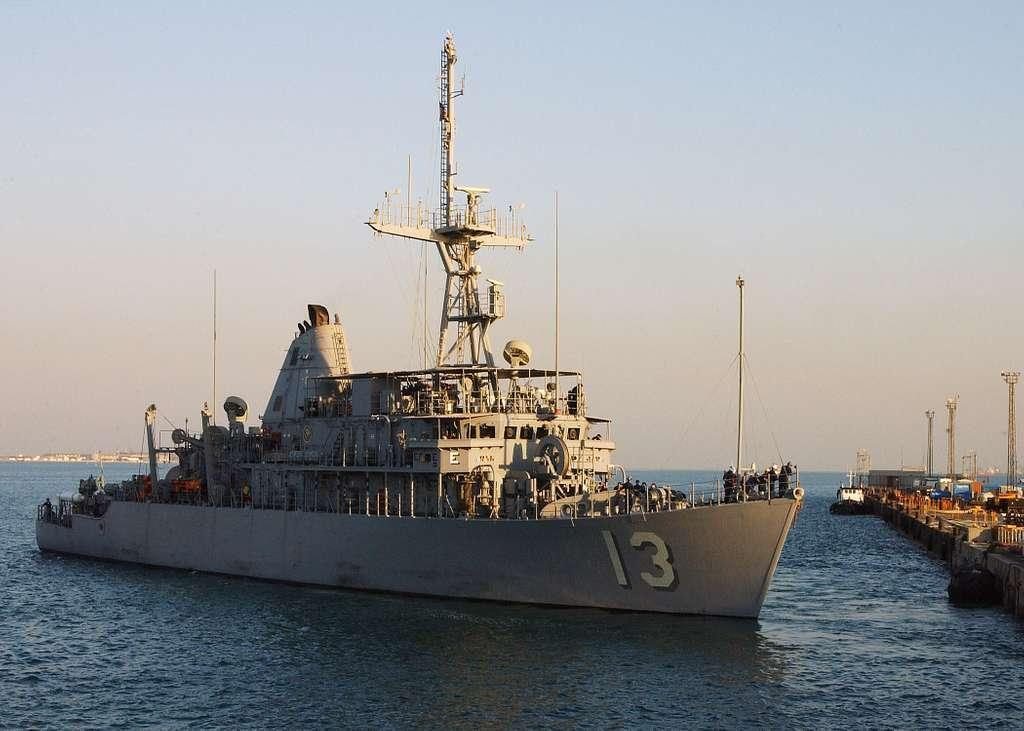Warship: (28, 10, 808, 622)
